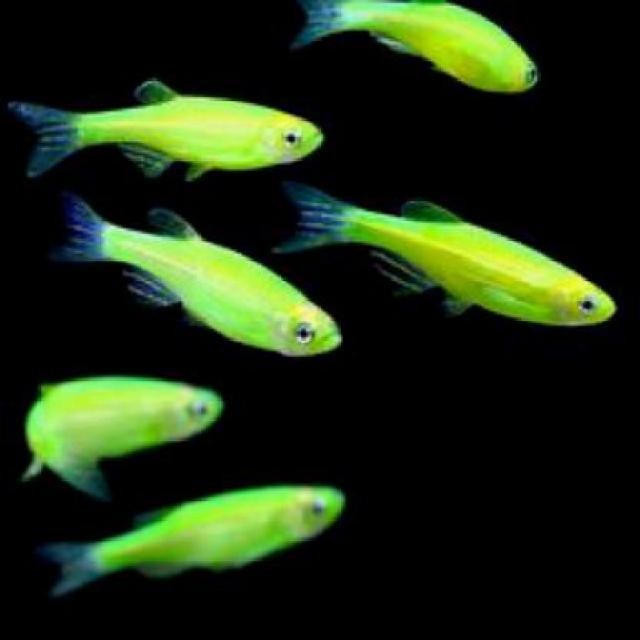ZebraFish: (278, 180, 620, 325), (60, 199, 346, 355), (11, 80, 322, 178)
